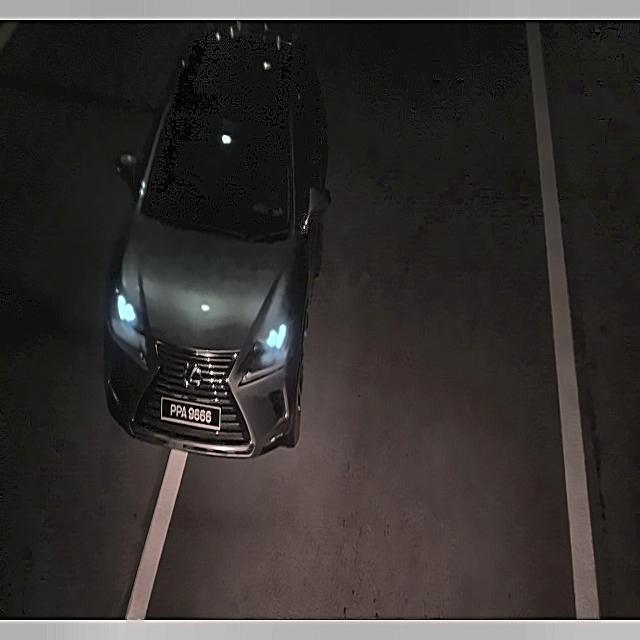car: (154, 388, 223, 436)
